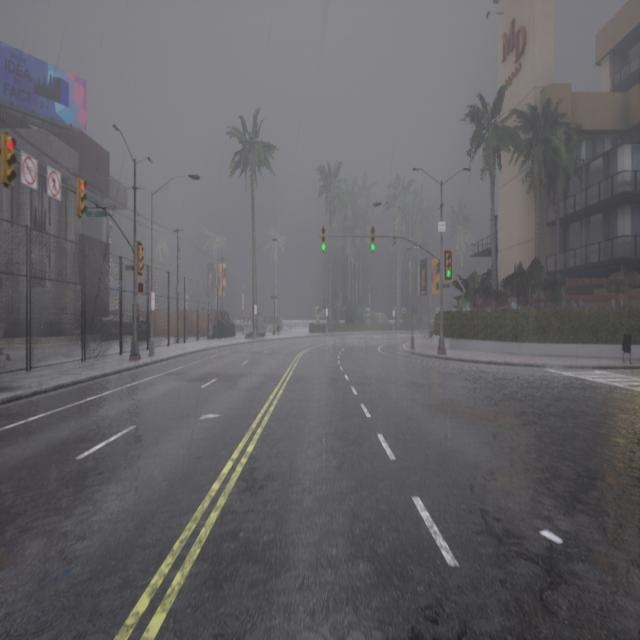bien_chi_dan: (76, 176, 87, 219), (135, 242, 144, 278), (444, 250, 452, 281), (320, 227, 328, 255), (370, 224, 376, 253), (76, 182, 86, 192), (321, 241, 328, 253), (136, 244, 144, 254), (444, 268, 452, 277), (371, 241, 375, 254)
